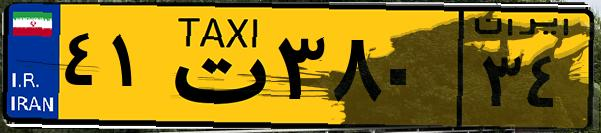0: (385, 28, 445, 110)
1: (110, 28, 158, 98)
3: (270, 28, 330, 110), (475, 38, 525, 113)
4: (57, 26, 110, 100), (525, 38, 570, 115)
8: (330, 28, 385, 110)
ت: (158, 12, 270, 120)
